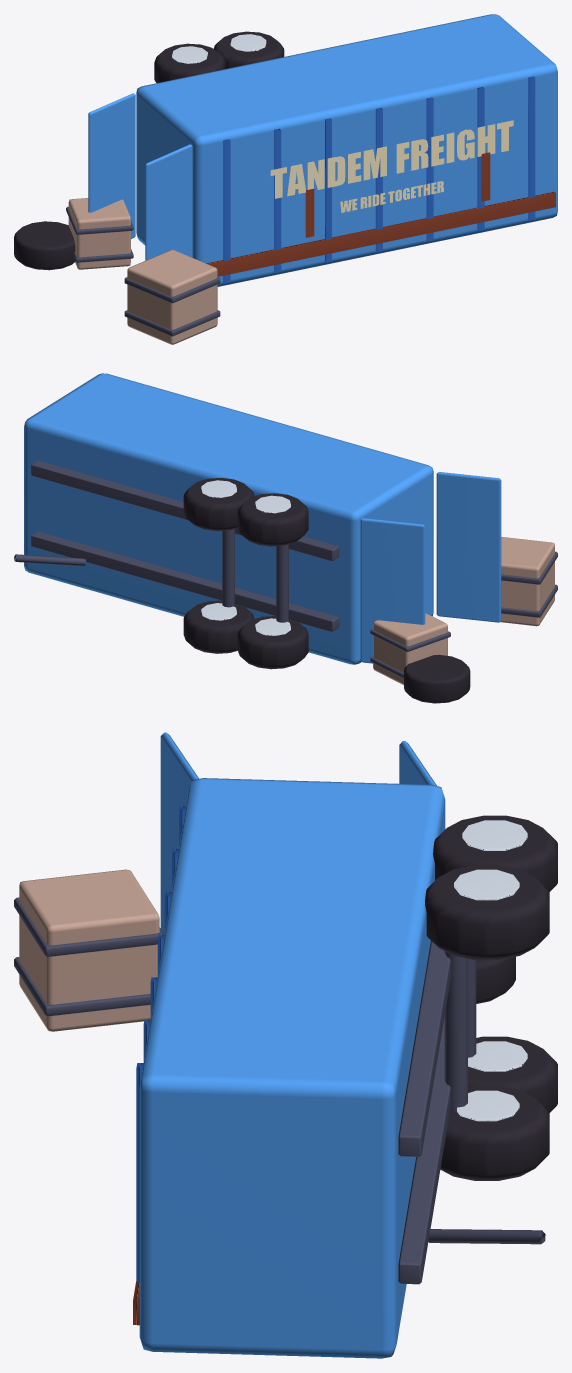
File: wrecked_trailer.glb
3 views of the same model, one above another, from view 1: azimuth 30°, elevation 25°; view 2: azimuth 150°, elevation 25°; view 3: azimuth 270°, elevation 25° (orthographic). The views are drawn at different scales.
Parts seen in each view (by area): view 1: Trailer; view 2: Trailer; view 3: Trailer.
Part boxes in pixels (x1,y1,x2,y2): Trailer: (14, 14, 557, 344); Trailer: (14, 373, 557, 703); Trailer: (14, 732, 557, 1358).
Size of the model in its own units: 4.08 by 1.34 by 2.32.
